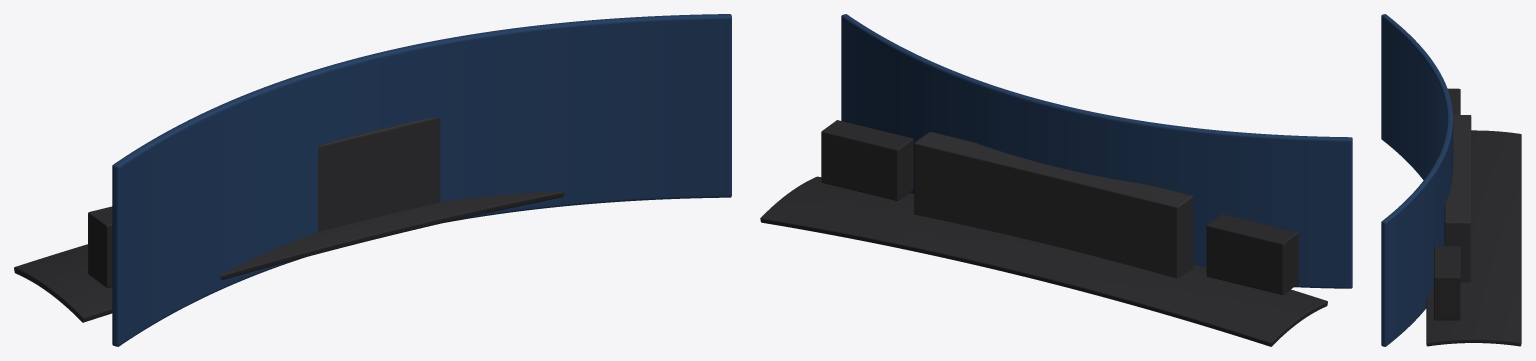
Rendered from front_bumper.glb.
The picture shows the model from 3 angles, left to right: view 1: azimuth 30°, elevation 25°; view 2: azimuth 150°, elevation 25°; view 3: azimuth 270°, elevation 25°; orthographic projection. The views are drawn at different scales.
Parts seen in each view (by area): view 1: BODY_BUMPER_FRONT, BUMPER_CENTER_AIR_DAM, BUMPER_FRONT_SPLITTER_LIP, BRAKE_TUNNEL_-0.7; view 2: BODY_BUMPER_FRONT, BUMPER_FRONT_SPLITTER_LIP, BUMPER_CENTER_AIR_DAM, BRAKE_TUNNEL_0.7, BRAKE_TUNNEL_-0.7; view 3: BODY_BUMPER_FRONT, BUMPER_FRONT_SPLITTER_LIP, BUMPER_CENTER_AIR_DAM, BRAKE_TUNNEL_0.7, BRAKE_TUNNEL_-0.7.
Boxes of the visible parts, left/top/right/bottom form: BODY_BUMPER_FRONT: left=112, top=14, right=731, bottom=346; BUMPER_CENTER_AIR_DAM: left=318, top=117, right=440, bottom=231; BUMPER_FRONT_SPLITTER_LIP: left=14, top=191, right=565, bottom=322; BRAKE_TUNNEL_-0.7: left=88, top=206, right=112, bottom=288; BODY_BUMPER_FRONT: left=841, top=14, right=1352, bottom=288; BUMPER_FRONT_SPLITTER_LIP: left=760, top=176, right=1327, bottom=346; BUMPER_CENTER_AIR_DAM: left=914, top=131, right=1193, bottom=278; BRAKE_TUNNEL_0.7: left=821, top=120, right=913, bottom=201; BRAKE_TUNNEL_-0.7: left=1206, top=214, right=1298, bottom=295; BODY_BUMPER_FRONT: left=1381, top=14, right=1453, bottom=346; BUMPER_FRONT_SPLITTER_LIP: left=1426, top=130, right=1521, bottom=346; BUMPER_CENTER_AIR_DAM: left=1444, top=115, right=1471, bottom=282; BRAKE_TUNNEL_0.7: left=1434, top=246, right=1460, bottom=320; BRAKE_TUNNEL_-0.7: left=1448, top=88, right=1460, bottom=114.
Bounding box in the file's own units: 1.86 × 0.52 × 0.5277.
